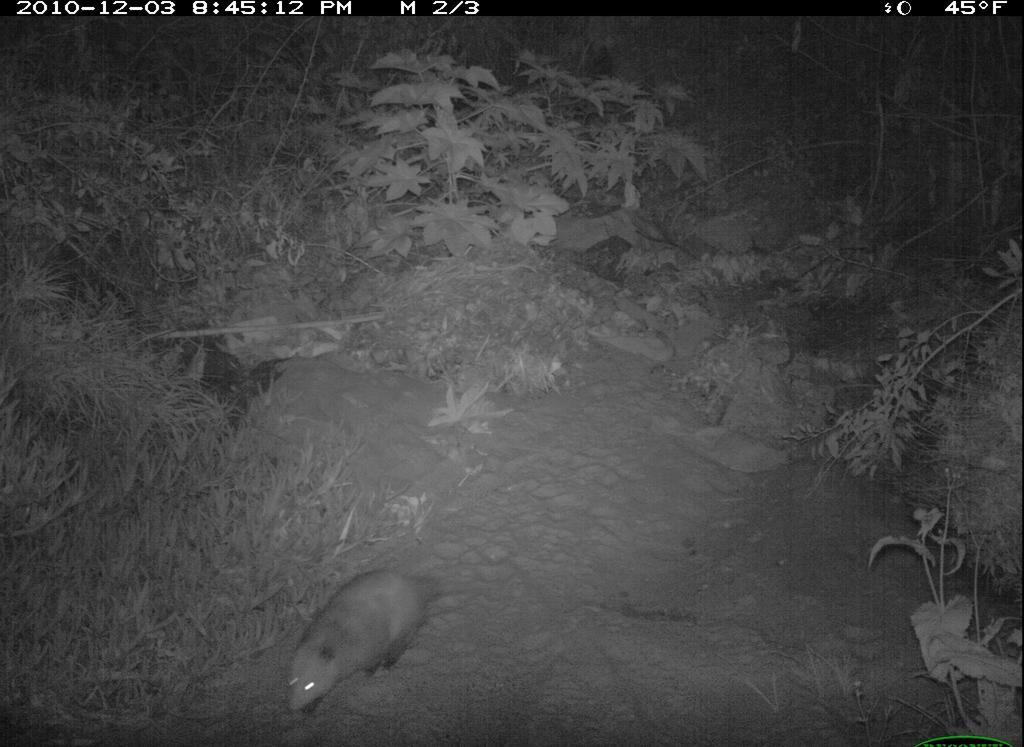opossum: (273, 556, 459, 725)
